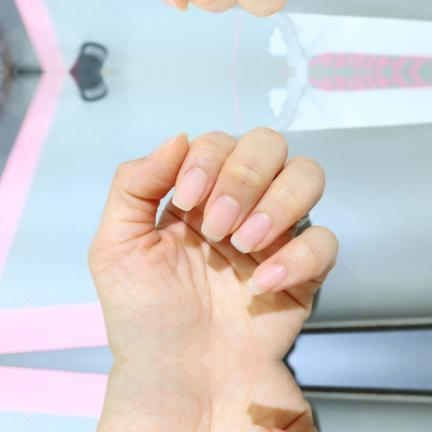Nail: (201, 195, 241, 242), (231, 212, 272, 253), (172, 167, 210, 211), (247, 264, 287, 295), (249, 425, 273, 432)
